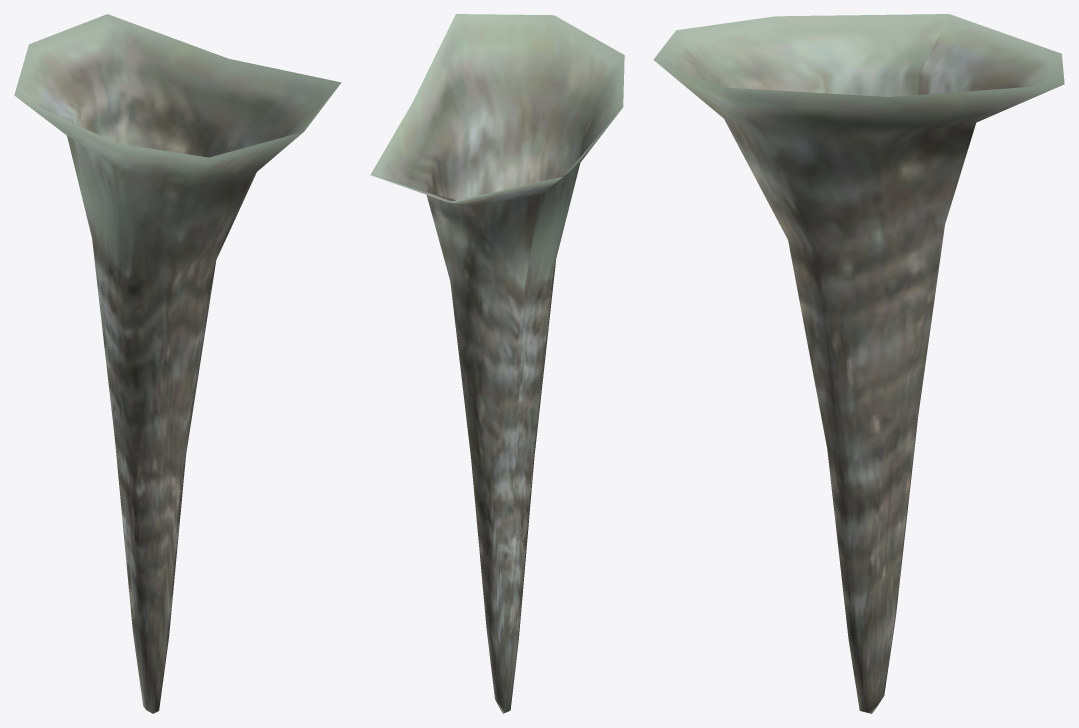
File: TROLLHOLE02_PS-MAINSTALAG27.fbx
3 views of the same model, side by side, from view 1: azimuth 30°, elevation 25°; view 2: azimuth 150°, elevation 25°; view 3: azimuth 270°, elevation 25° (orthographic). The views are drawn at different scales.
Parts seen in each view (by area): view 1: TROLLHOLE02_PS-MAINSTALAG27; view 2: TROLLHOLE02_PS-MAINSTALAG27; view 3: TROLLHOLE02_PS-MAINSTALAG27.
Boxes of the visible parts, x1=… form: TROLLHOLE02_PS-MAINSTALAG27: x1=14, y1=14, x2=341, y2=713; TROLLHOLE02_PS-MAINSTALAG27: x1=370, y1=14, x2=624, y2=713; TROLLHOLE02_PS-MAINSTALAG27: x1=653, y1=14, x2=1064, y2=713.
Bounding box in the file's own units: 10090 × 28536 × 15452.
1 material, 1 textured.
